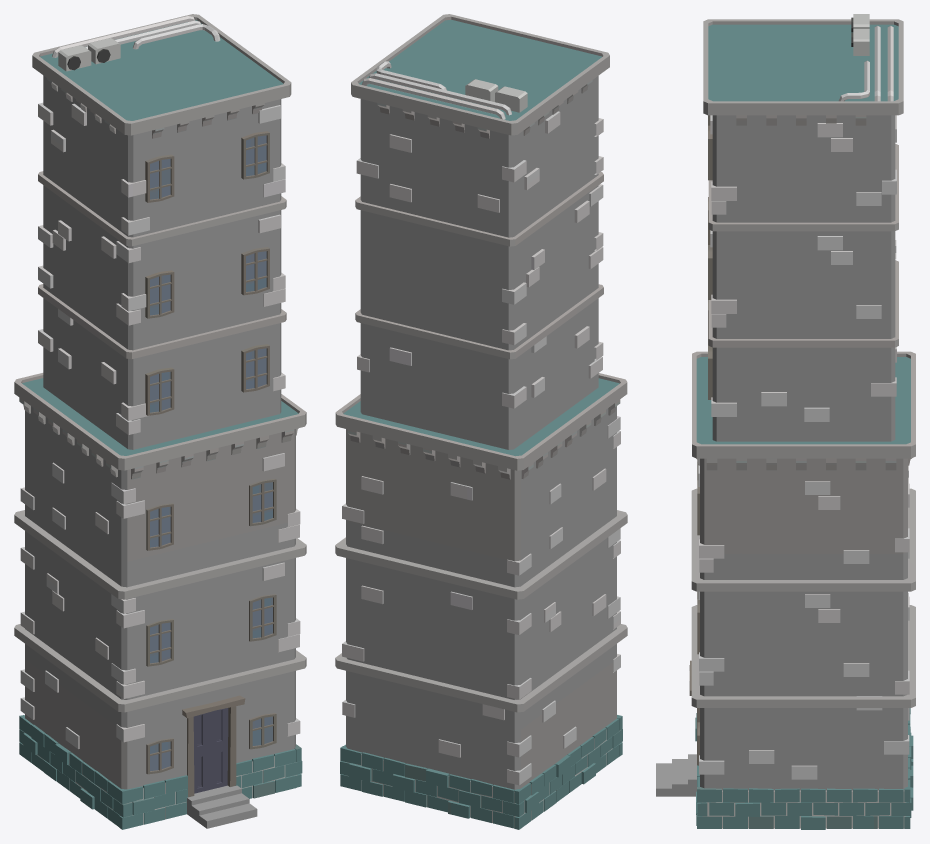
Rendered from 6Story Stack.glb.
The picture shows the model from 3 angles, left to right: view 1: azimuth 30°, elevation 25°; view 2: azimuth 150°, elevation 25°; view 3: azimuth 270°, elevation 25°; orthographic projection. The views are drawn at different scales.
Parts seen in each view (by area): view 1: 6Story_Stack; view 2: 6Story_Stack; view 3: 6Story_Stack.
Part boxes in pixels (bbox=[...]): 6Story_Stack: bbox=[14, 14, 306, 829]; 6Story_Stack: bbox=[335, 14, 627, 829]; 6Story_Stack: bbox=[656, 14, 915, 829].
Size of the model in its own units: 5.18 by 18.73 by 6.
Materials: 1 (1 with a texture image).
